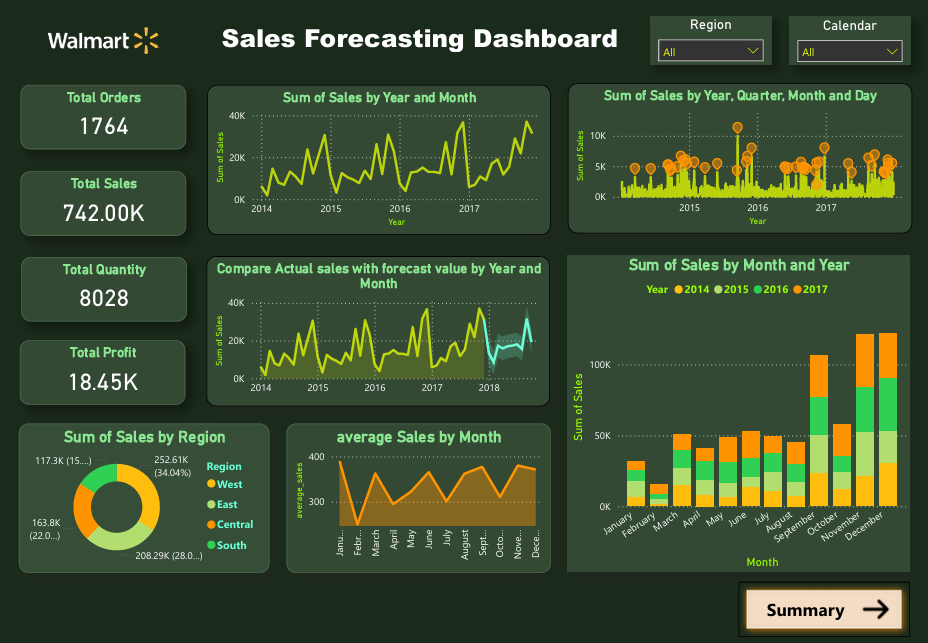

Layout of this report page (visuals, bound fields, positions):
{"tool":"powerbi","page":{"name":"Sales Forecasting Dashboard","canvas":[1150,800],"ordinal":0},"visuals":[{"type":"card","title":"Total Quantity","fields":{"Values":["Cal.quantity"]},"box":[27,316.7,205,80],"z":0},{"type":"card","title":"Total Orders","fields":{"Values":["Cal.t_orders"]},"box":[25.9,103.6,205,80],"z":1000},{"type":"card","title":"Total Sales","fields":{"Values":["Cal.sales"]},"box":[25.9,211.1,205,80],"z":2000},{"type":"card","title":"Total Profit","fields":{"Values":["Cal.profit"]},"box":[24.7,420,205,80],"z":3000},{"type":"shape","title":"Sales Forecasting Dashboard","box":[234.2,23.5,571.7,40],"z":4000},{"type":"lineChart","fields":{"Y":["Sum(stores_sales_forecasting.Sales)"],"Category":["stores_sales_forecasting.Order Date.Variation.Date Hierarchy.Year","stores_sales_forecasting.Order Date.Variation.Date Hierarchy.Month"]},"box":[257,103.6,425,186.4],"z":5000},{"type":"slicer","title":"Region","fields":{"Values":["stores_sales_forecasting.Sub-Category"]},"box":[805.3,19,150,60],"z":6000},{"type":"slicer","title":"Calendar","fields":{"Values":["stores_sales_forecasting.Order Date.Variation.Date Hierarchy.Year"]},"box":[977,19.6,150,60],"z":7000},{"type":"lineChart","title":"Compare Actual sales with forecast value by Year and Month","fields":{"Y":["Sum(stores_sales_forecasting.Sales)"],"Category":["stores_sales_forecasting.Order Date.Variation.Date Hierarchy.Year","stores_sales_forecasting.Order Date.Variation.Date Hierarchy.Month"]},"box":[256.4,315.7,425,186.7],"z":8000},{"type":"lineChart","fields":{"Y":["Sum(stores_sales_forecasting.Sales)"],"Category":["stores_sales_forecasting.Order Date.Variation.Date Hierarchy.Year","stores_sales_forecasting.Order Date.Variation.Date Hierarchy.Quarter","stores_sales_forecasting.Order Date.Variation.Date Hierarchy.Month","stores_sales_forecasting.Order Date.Variation.Date Hierarchy.Day"]},"box":[702.8,101.7,426,186],"z":9000},{"type":"areaChart","title":"average Sales by Month","fields":{"Y":["Cal.average_sales"],"Category":["stores_sales_forecasting.Order Date.Variation.Date Hierarchy.Month"]},"box":[355.3,523.5,326.7,184.4],"z":10000},{"type":"image","box":[54,16,150,68],"z":11000},{"type":"columnChart","fields":{"Category":["stores_sales_forecasting.Order Date.Variation.Date Hierarchy.Month"],"Y":["Sum(stores_sales_forecasting.Sales)"],"Series":["stores_sales_forecasting.Order Date.Variation.Date Hierarchy.Year"]},"box":[702.9,315.5,424,392],"z":12000},{"type":"donutChart","fields":{"Category":["stores_sales_forecasting.Region"],"Y":["Sum(stores_sales_forecasting.Sales)"]},"box":[23.6,522.7,310,185.5],"z":13000},{"type":"actionButton","box":[913.6,719.1,212.7,68.2],"z":14000}]}

Visuals, with their boxes in screenshot pixels (x1, y1, x2, y2), scaled from the page's 1150x800 canvas onto the 928x643 screenshot:
"Total Quantity" card: (22,255,187,319)
"Total Orders" card: (21,83,186,148)
"Total Sales" card: (21,170,186,234)
"Total Profit" card: (20,338,185,402)
"Sales Forecasting Dashboard" shape: (189,19,650,51)
lineChart - Sum(stores_sales_forecasting.Sales) x stores_sales_forecasting.Order Date.Variation.Date Hierarchy.Year: (207,83,550,233)
"Region" slicer: (650,15,771,63)
"Calendar" slicer: (788,16,909,64)
"Compare Actual sales with forecast value by Year and Month" lineChart: (207,254,550,404)
lineChart - Sum(stores_sales_forecasting.Sales) x stores_sales_forecasting.Order Date.Variation.Date Hierarchy.Year: (567,82,911,231)
"average Sales by Month" areaChart: (287,421,550,569)
image: (44,13,165,68)
columnChart - stores_sales_forecasting.Order Date.Variation.Date Hierarchy.Month x Sum(stores_sales_forecasting.Sales): (567,254,909,569)
donutChart - stores_sales_forecasting.Region x Sum(stores_sales_forecasting.Sales): (19,420,269,569)
actionButton: (737,578,909,633)
